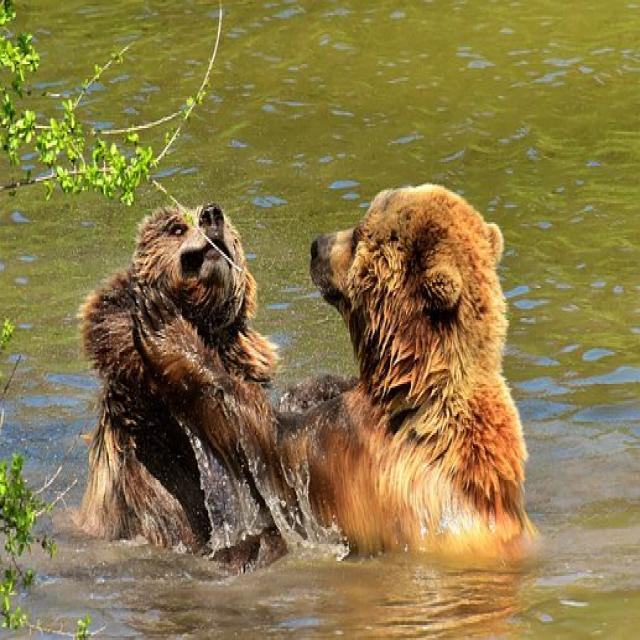Bear: (139, 184, 542, 563), (77, 205, 286, 567)
